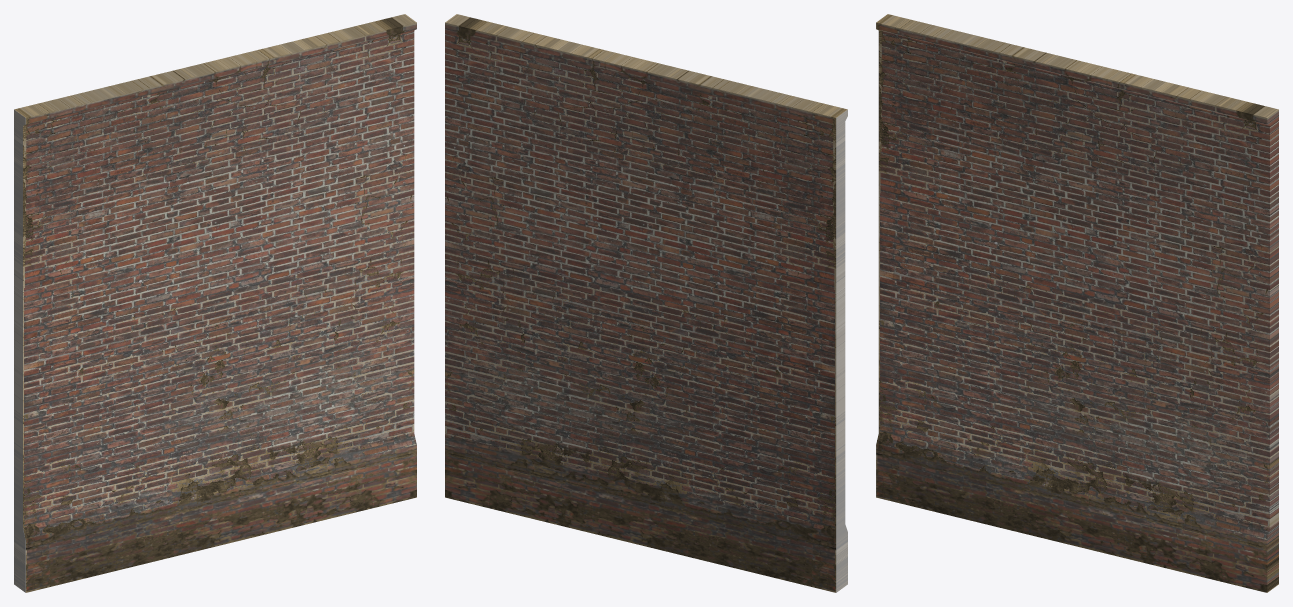
File: Wall_01_big.fbx
3 renders of one model, left to right at view 1: azimuth 30°, elevation 25°; view 2: azimuth 150°, elevation 25°; view 3: azimuth 330°, elevation 25°, orthographic.
Visible parts, largest first — view 1: wall_01_big_1; view 2: wall_01_big_1; view 3: wall_01_big_1.
Boxes of the visible parts, <box> form: wall_01_big_1: <box>14,14,416,592</box>; wall_01_big_1: <box>445,14,847,592</box>; wall_01_big_1: <box>876,14,1278,592</box>.
Size of the model in its own units: 500 by 580 by 26.
1 material, 1 textured.
